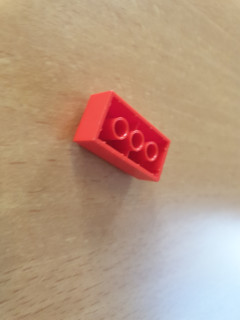2x4 red: (73, 89, 172, 184)
